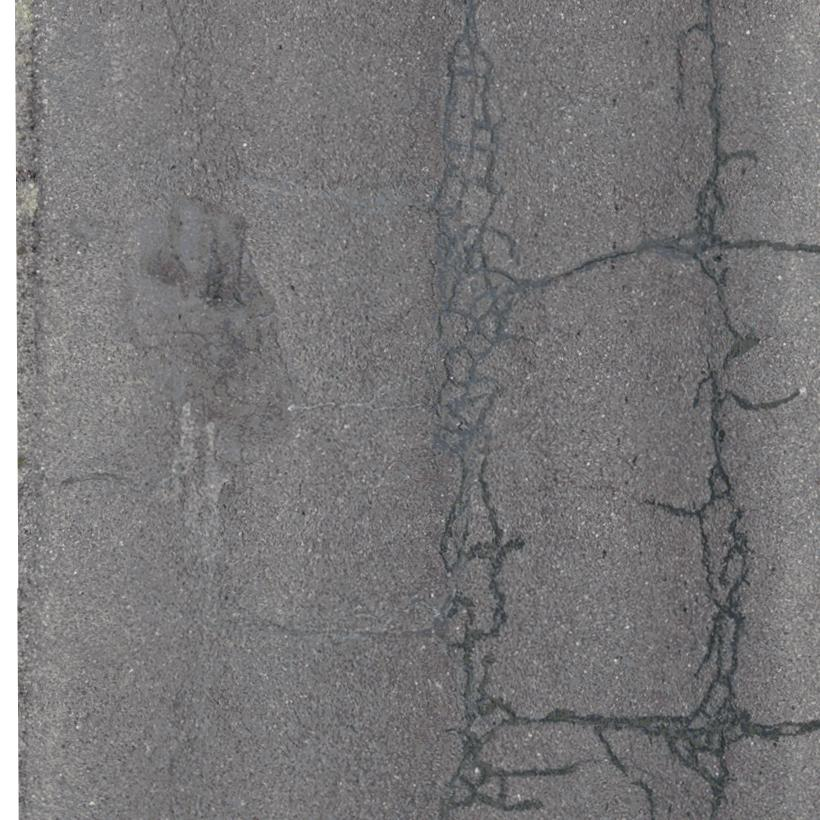GRIETA: (221, 590, 431, 638), (527, 245, 690, 286), (573, 485, 692, 517), (519, 708, 665, 727), (716, 287, 747, 370), (707, 0, 721, 178), (677, 23, 705, 109), (594, 729, 631, 777), (723, 389, 801, 410), (751, 720, 819, 739), (508, 762, 580, 777), (710, 372, 722, 461), (730, 241, 819, 252), (631, 781, 655, 819), (720, 150, 758, 166), (709, 795, 721, 819)
PARCHE: (132, 210, 280, 410)
PIEL DE COCODRILO: (428, 25, 527, 651), (661, 461, 755, 795), (161, 2, 254, 202), (432, 647, 520, 817), (686, 176, 731, 288)
